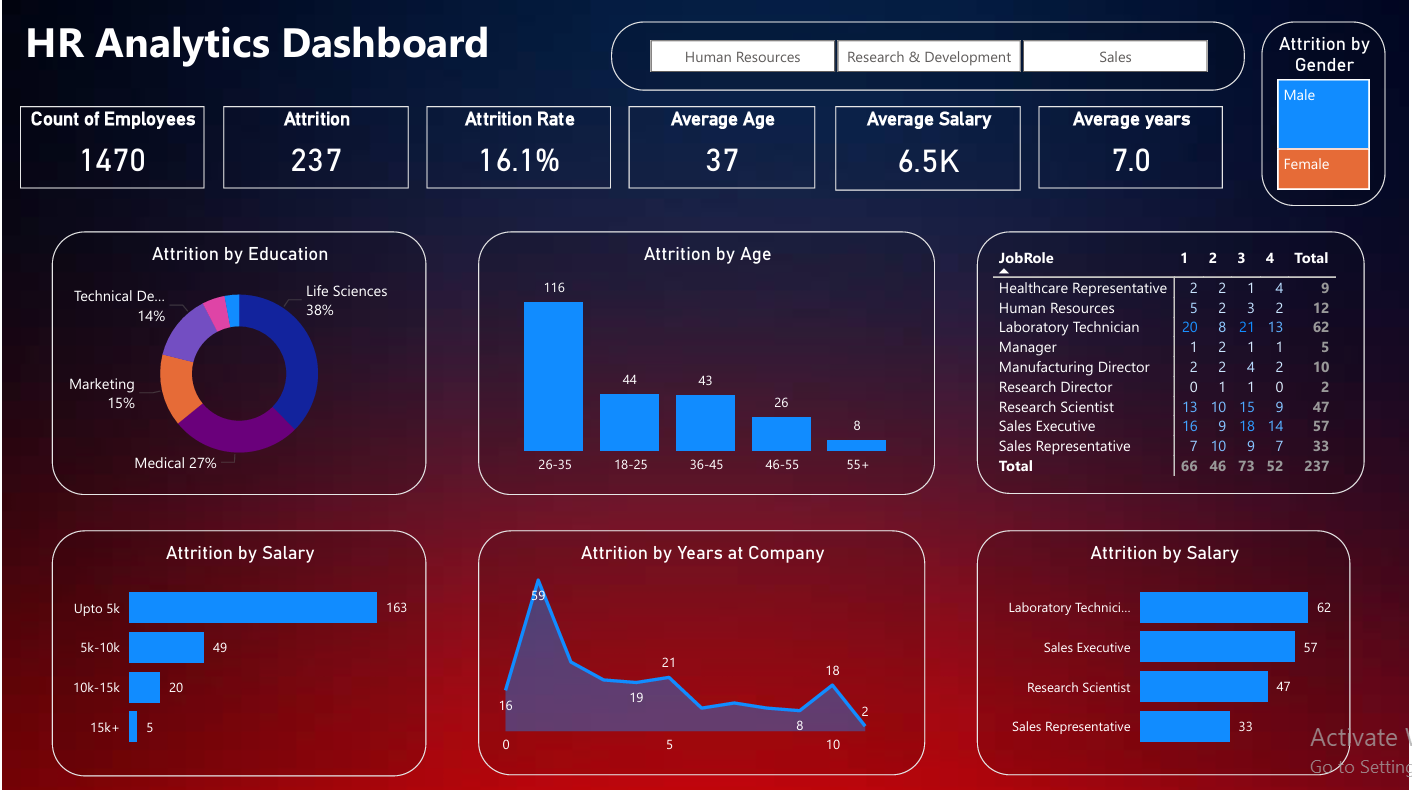

The dashboard page shown, as its layout file describes it:
{"tool":"powerbi","page":{"name":"Page 1","canvas":[1280,720],"ordinal":0},"visuals":[{"type":"card","title":"Count of Employees","fields":{"Values":["CountNonNull(HR_Analytics.EmpID)"]},"box":[15.7,98.3,168.3,75.1],"z":0},{"type":"card","title":"Attrition","fields":{"Values":["Sum(HR_Analytics.AttritionCount)"]},"box":[200.9,98.3,169.5,75.1],"z":1000},{"type":"card","title":"Attrition Rate","fields":{"Values":["HR_Analytics.AttritionRate"]},"box":[386.1,98.3,168.3,75.1],"z":2000},{"type":"card","title":"Average Age","fields":{"Values":["Avg(HR_Analytics.Age)"]},"box":[570.1,98.3,169.5,75.1],"z":3000},{"type":"actionButton","box":[0,0,100,40],"z":4000},{"type":"card","title":"Average Salary","fields":{"Values":["Avg(HR_Analytics.MonthlyIncome)"]},"box":[757.8,98.3,169.5,76.3],"z":5000},{"type":"card","title":"Average years ","fields":{"Values":["Avg(HR_Analytics.YearsAtCompany)"]},"box":[943,98.3,168.3,75.1],"z":6000},{"type":"donutChart","title":"Attrition by Education","fields":{"Category":["HR_Analytics.EducationField"],"Y":["Sum(HR_Analytics.AttritionCount)"]},"box":[44.8,211.8,341.4,239.7],"z":6001},{"type":"columnChart","title":"Attrition by Age","fields":{"Category":["HR_Analytics.AgeGroup"],"Y":["Sum(HR_Analytics.AttritionCount)"]},"box":[433.4,211.8,415.2,239.7],"z":6002},{"type":"pivotTable","fields":{"Rows":["HR_Analytics.JobRole"],"Columns":["HR_Analytics.JobSatisfaction"],"Values":["Sum(HR_Analytics.AttritionCount)"]},"box":[887.3,211.8,352.3,239],"z":6003},{"type":"barChart","title":"Attrition by Salary","fields":{"Category":["HR_Analytics.SalarySlab"],"Y":["Sum(HR_Analytics.AttritionCount)"]},"box":[44.8,484.2,341.4,223.9],"z":6004},{"type":"barChart","title":"Attrition by Salary","fields":{"Category":["HR_Analytics.JobRole"],"Y":["Sum(HR_Analytics.AttritionCount)"]},"box":[887.3,484.2,340.1,222.7],"z":6005},{"type":"areaChart","title":"Attrition by Years at Company","fields":{"Category":["HR_Analytics.YearsAtCompany"],"Y":["Sum(HR_Analytics.AttritionCount)"]},"box":[433.4,484.2,406.7,223],"z":6006},{"type":"treemap","title":"Attrition by Gender","fields":{"Values":["Sum(HR_Analytics.AttritionCount)"],"Group":["HR_Analytics.Gender"]},"box":[1146.3,20.6,112.6,168.3],"z":6007},{"type":"slicer","fields":{"Values":["HR_Analytics.Department"]},"box":[554.4,20.6,576.2,62.9],"z":6008},{"type":"textbox","box":[44.8,6.1,473.3,69],"z":6009}]}

Visuals, with their boxes in screenshot pixels (x1, y1, x2, y2), scaled from the page's 1280x720 canvas onto the 1412x791 screenshot:
"Count of Employees" card: select_region(17, 108, 203, 190)
"Attrition" card: select_region(222, 108, 409, 190)
"Attrition Rate" card: select_region(426, 108, 612, 190)
"Average Age" card: select_region(629, 108, 816, 190)
actionButton: select_region(0, 0, 110, 44)
"Average Salary" card: select_region(836, 108, 1023, 192)
"Average years " card: select_region(1040, 108, 1226, 190)
"Attrition by Education" donutChart: select_region(49, 233, 426, 496)
"Attrition by Age" columnChart: select_region(478, 233, 936, 496)
pivotTable - HR_Analytics.JobRole x HR_Analytics.JobSatisfaction: select_region(979, 233, 1367, 495)
"Attrition by Salary" barChart: select_region(49, 532, 426, 778)
"Attrition by Salary" barChart: select_region(979, 532, 1354, 777)
"Attrition by Years at Company" areaChart: select_region(478, 532, 927, 777)
"Attrition by Gender" treemap: select_region(1265, 23, 1389, 208)
slicer - HR_Analytics.Department: select_region(612, 23, 1247, 92)
textbox: select_region(49, 7, 572, 83)
